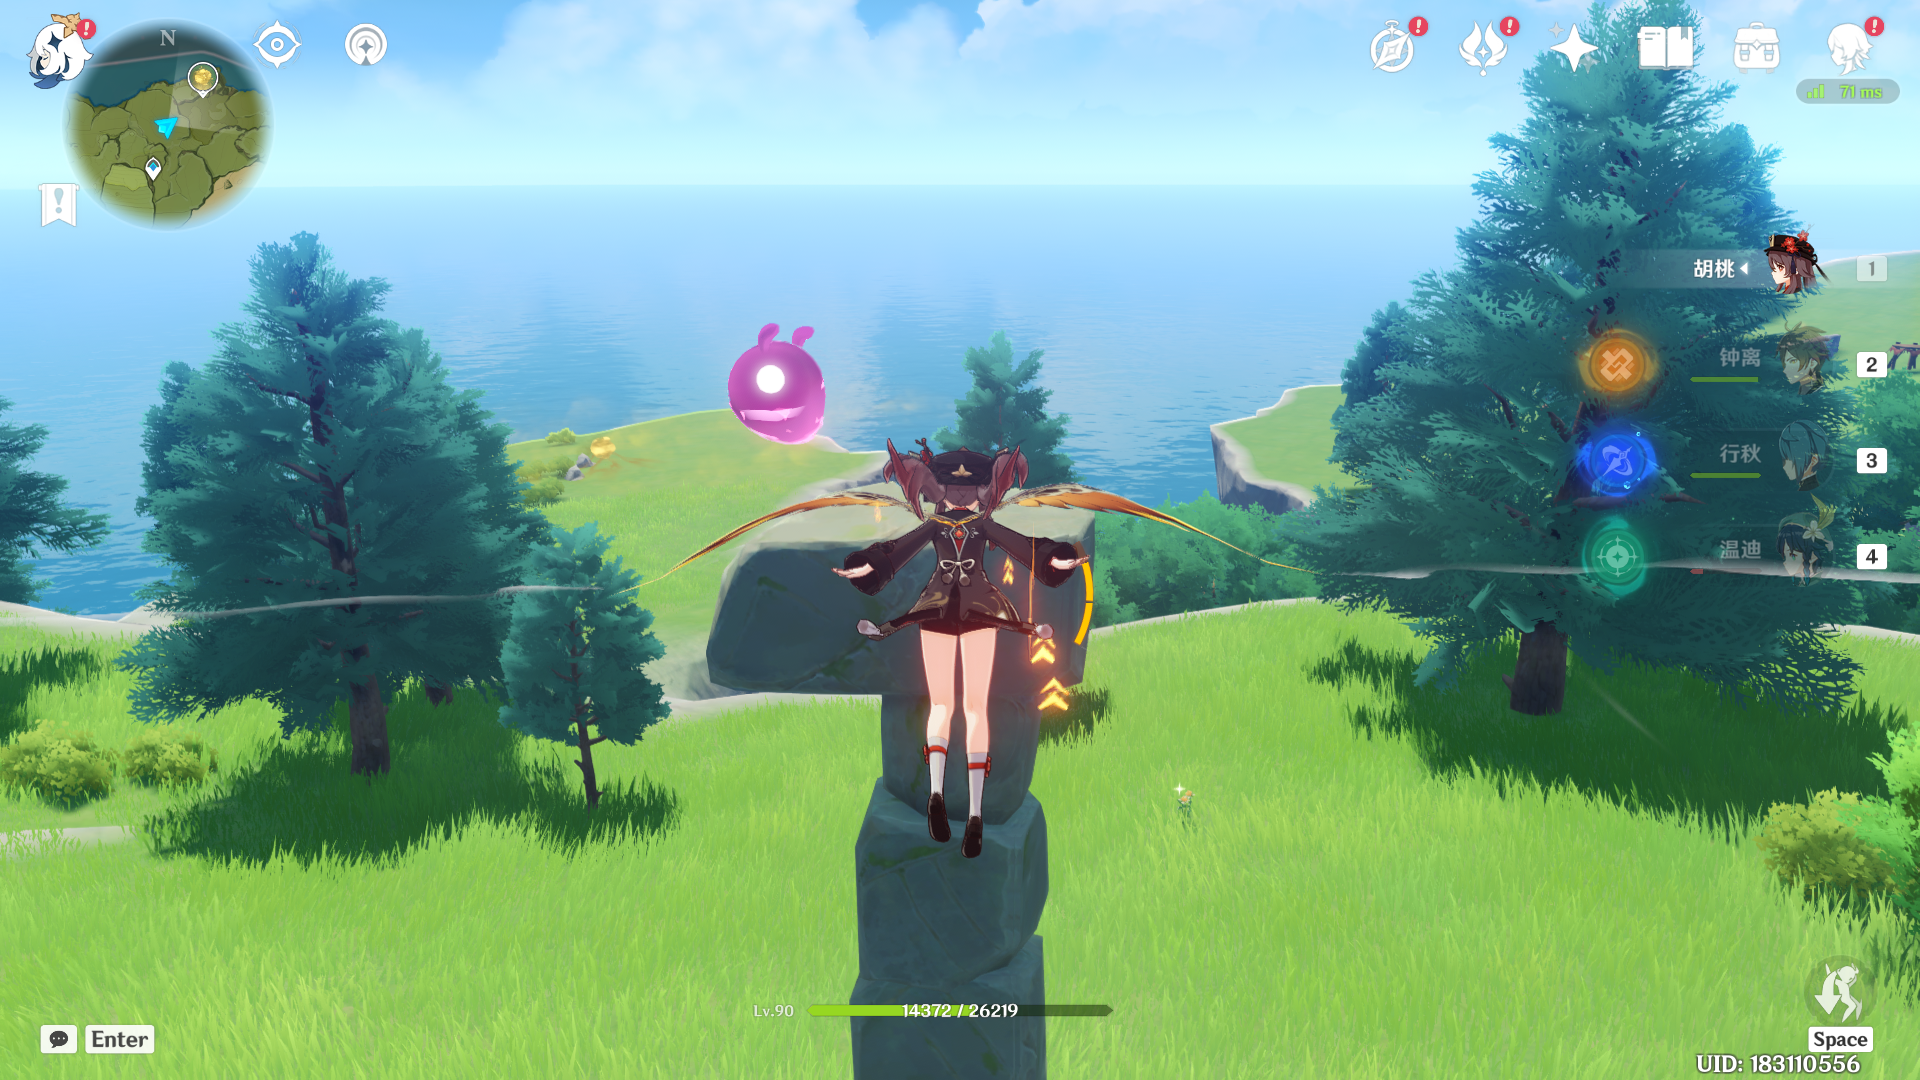character: (812, 415, 1116, 877)
